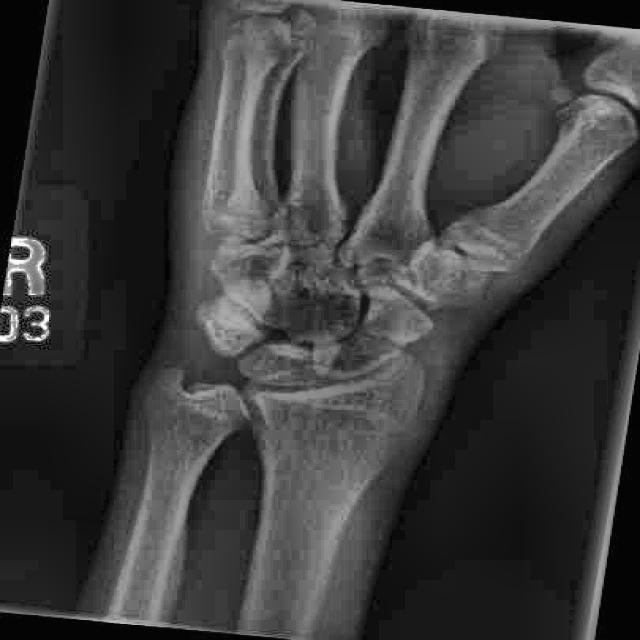wrist positive: (150, 375, 438, 460), (329, 309, 441, 371)
